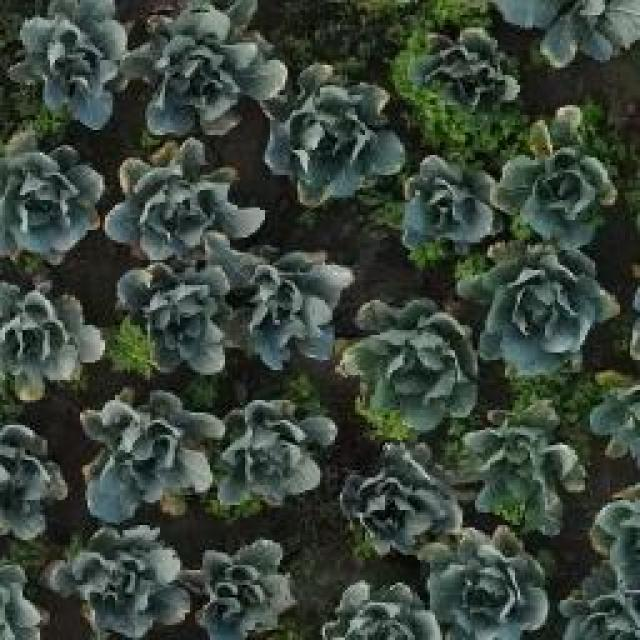cabbage: (262, 64, 408, 202), (482, 243, 624, 381), (343, 292, 481, 432), (111, 136, 266, 258), (80, 391, 221, 521), (131, 0, 262, 133), (340, 438, 470, 560), (19, 0, 138, 130), (52, 524, 188, 636), (216, 394, 336, 516), (110, 259, 232, 377), (426, 524, 550, 640), (464, 416, 584, 535), (496, 124, 616, 240), (0, 276, 107, 401), (228, 242, 338, 362), (0, 146, 108, 266), (188, 535, 292, 640), (410, 27, 524, 110), (398, 152, 497, 241), (0, 419, 66, 540), (325, 580, 437, 640)
